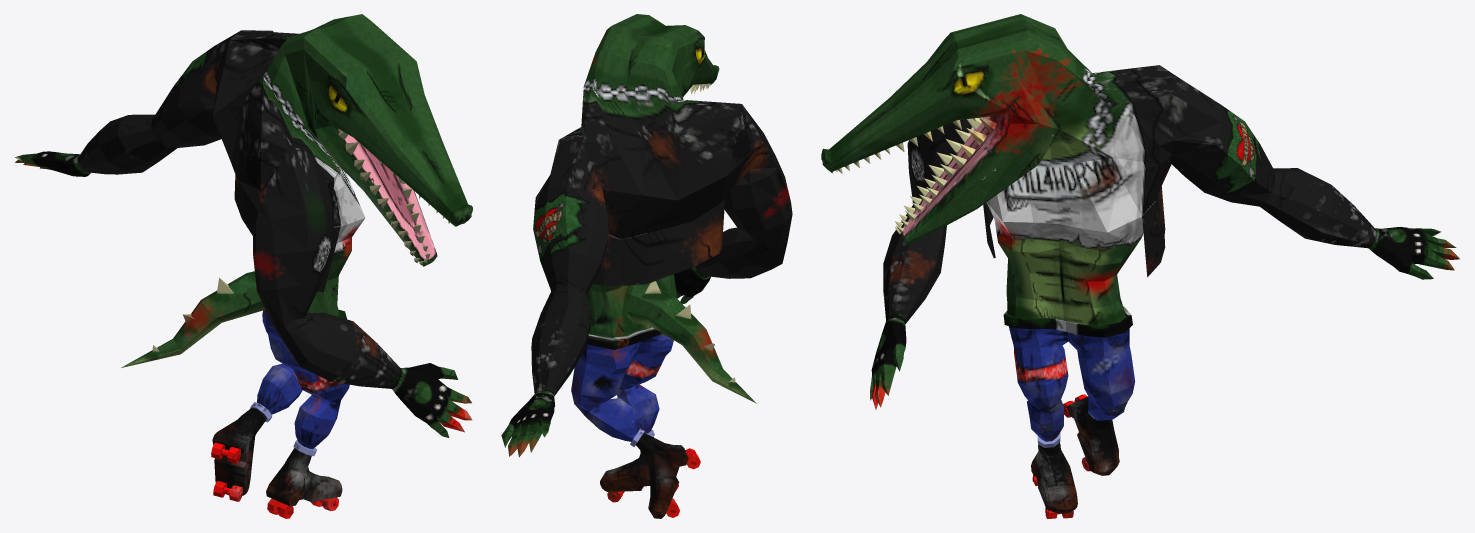
The model's file is cocodrilaBonesSelect_000046.obj.
The picture shows the model from 3 angles, left to right: view 1: azimuth 30°, elevation 25°; view 2: azimuth 150°, elevation 25°; view 3: azimuth 270°, elevation 25°; orthographic projection. The views are drawn at different scales.
Visible parts, largest first — view 1: Crocodile.002_Cylinder.002; view 2: Crocodile.002_Cylinder.002; view 3: Crocodile.002_Cylinder.002.
Boxes of the visible parts, bbox=[...] form: Crocodile.002_Cylinder.002: bbox=[15, 14, 472, 518]; Crocodile.002_Cylinder.002: bbox=[501, 14, 792, 518]; Crocodile.002_Cylinder.002: bbox=[821, 14, 1459, 518].
Size of the model in its own units: 3.26 by 6.52 by 7.68.
